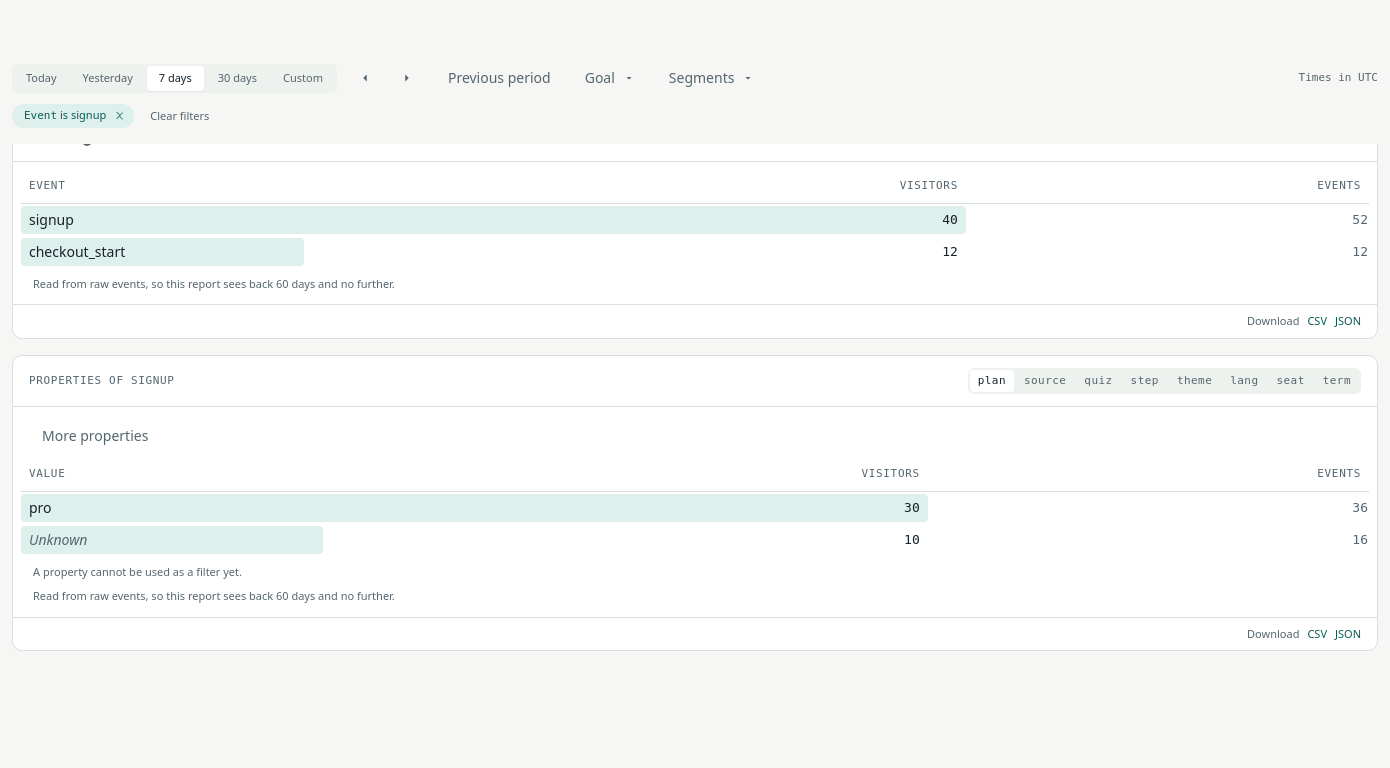
Events, the properties of one › opens another property from its tab and keeps it in the link
Check: the text "pro" is shown, box [29,497,52,518]
Click the tab "source": (1045,381) [1016,370,1074,392]
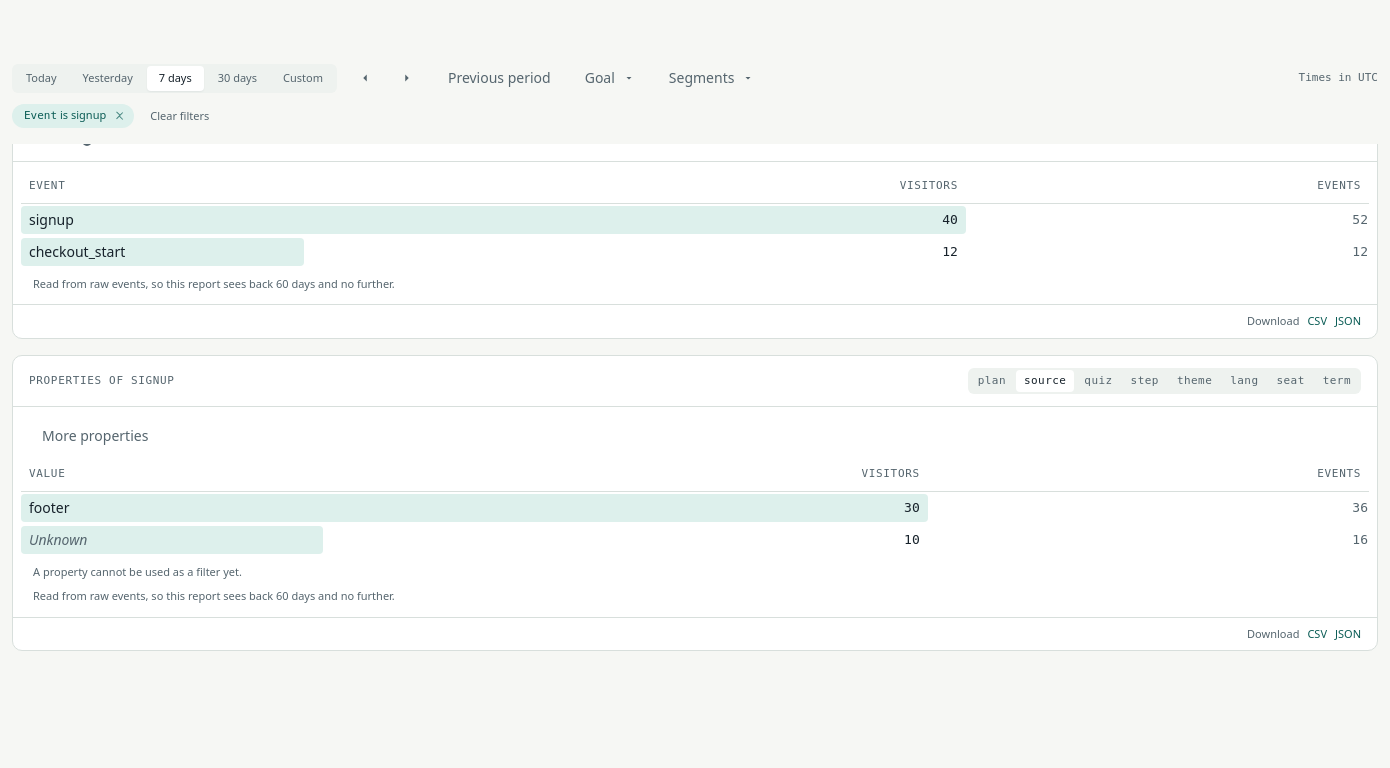
Check: the text "footer" is shown, box [29,497,70,518]
